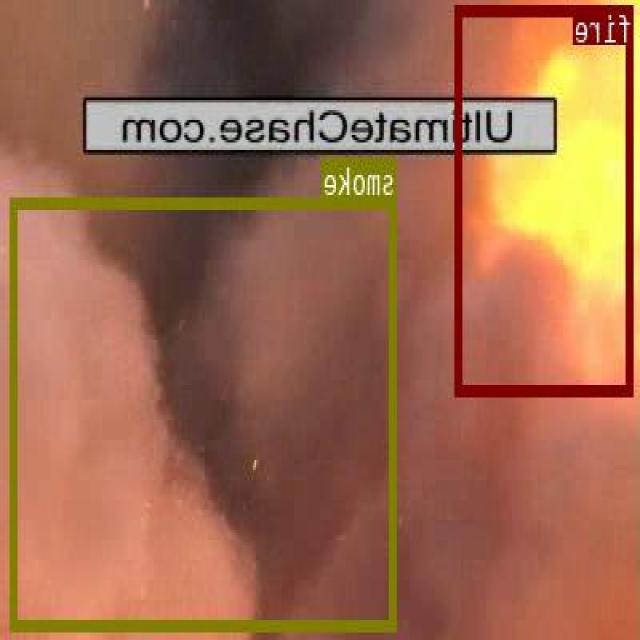fire: (457, 3, 635, 394)
smoke: (12, 196, 398, 629)
